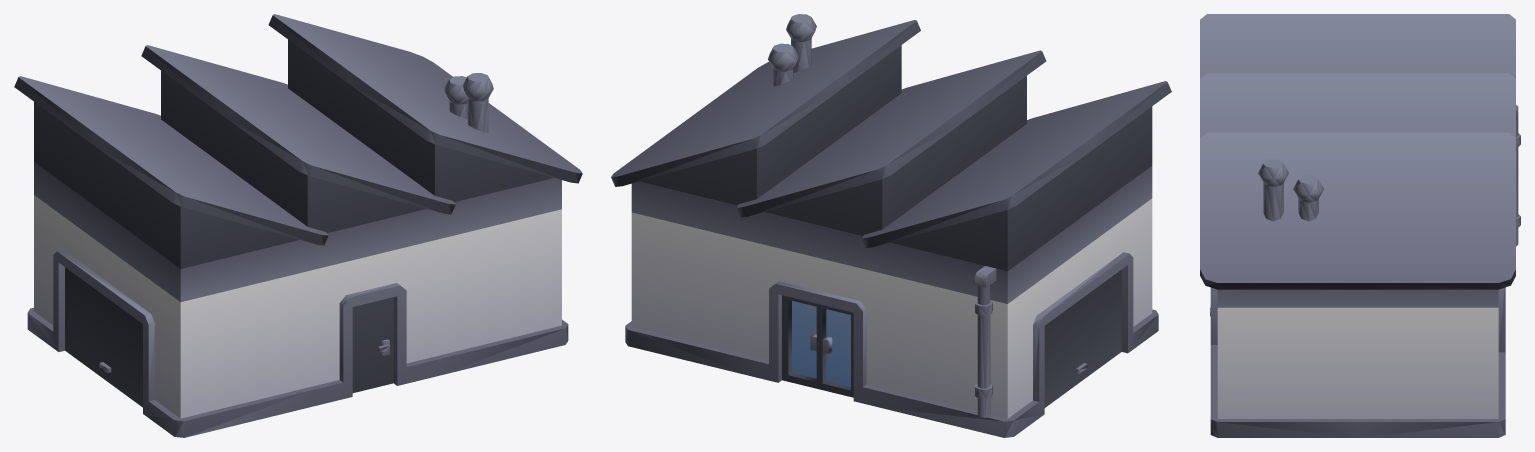
Rendered from ki_building_k.fbx.
3 renders of one model, left to right at view 1: azimuth 30°, elevation 25°; view 2: azimuth 150°, elevation 25°; view 3: azimuth 270°, elevation 25°, orthographic. The views are drawn at different scales.
Parts seen in each view (by area): view 1: ki_building_k_LOD0; view 2: ki_building_k_LOD0; view 3: ki_building_k_LOD0.
Part boxes in pixels (x1,y1,x2,y2): ki_building_k_LOD0: (14, 14, 582, 437); ki_building_k_LOD0: (611, 14, 1171, 437); ki_building_k_LOD0: (1200, 14, 1520, 437).
Size of what is drawn, in the model's own units: 11.07 by 6.57 by 7.77.
